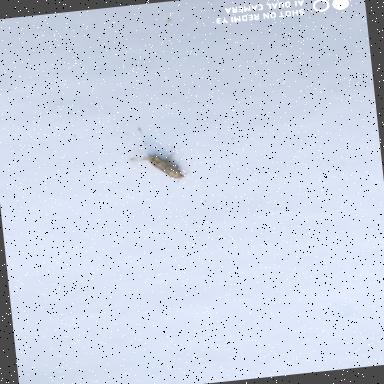pbw: (142, 147, 194, 189)
